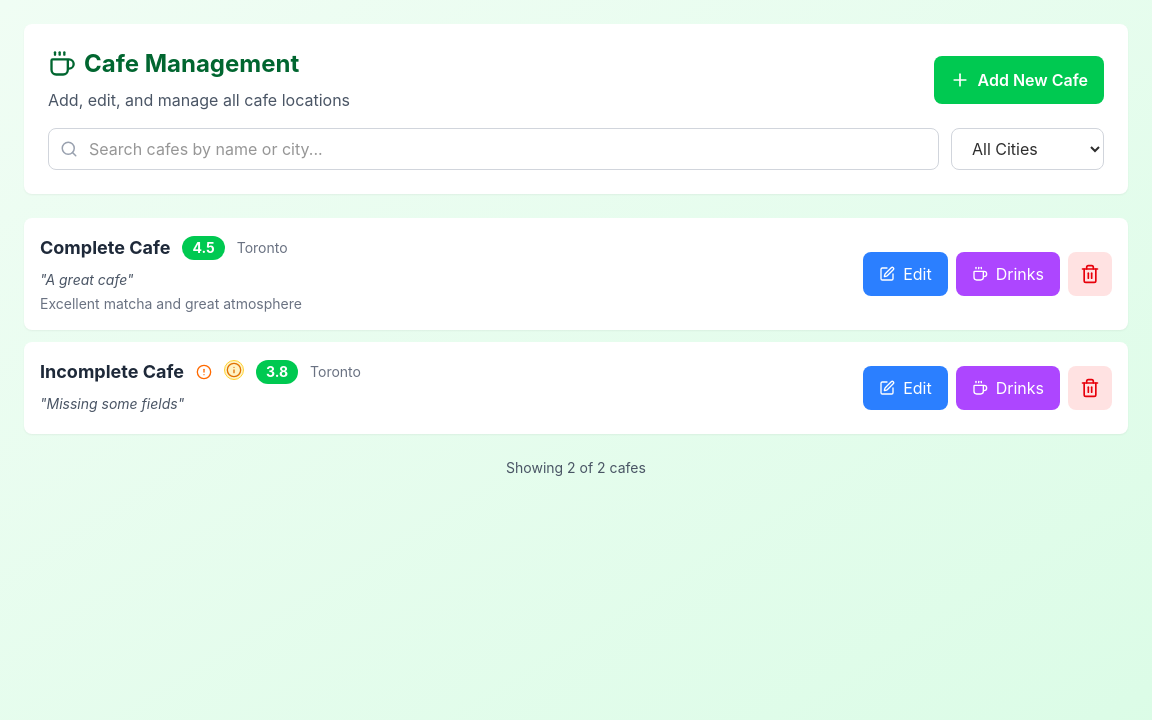
Test: CafeManagementPage › Search and Filter › filters cafes by search query
This screenshot has width=1152, height=720.
Use "great" to match only "Complete Cafe" (has "A great cafe" in quickNote)
In the field with placeholder "Search cafes by name or city...": (494, 149) left=48, top=128, right=939, bottom=170, type "great"
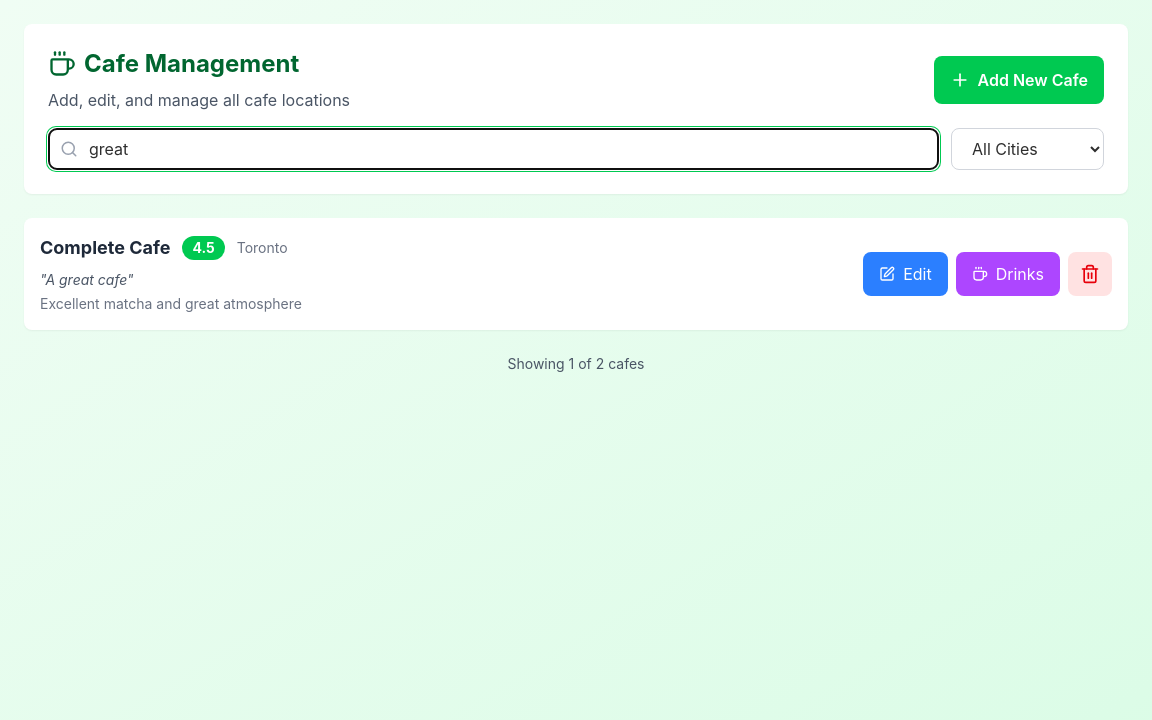
Expected: the heading "Complete Cafe" is shown, left=40, top=234, right=170, bottom=262
Result: the heading "Incomplete Cafe" is gone
